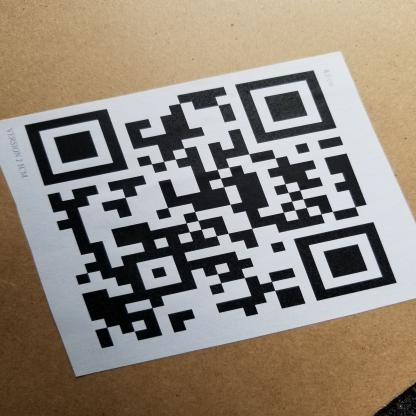qr: (21, 65, 400, 354)
